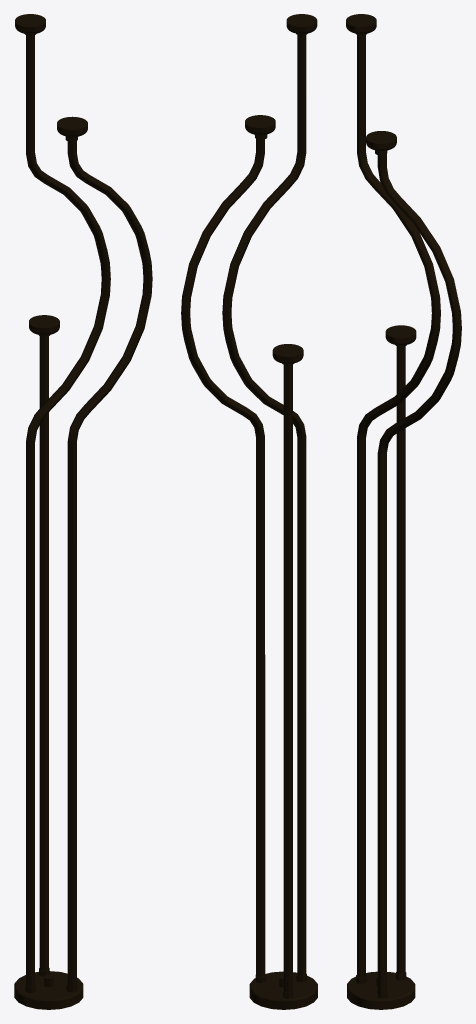
Rendered from CurvyStandBlack.glb.
3 renders of one model, left to right at view 1: azimuth 30°, elevation 25°; view 2: azimuth 210°, elevation 25°; view 3: azimuth 330°, elevation 25°, orthographic.
Parts seen in each view (by area): view 1: Stand; view 2: Stand; view 3: Stand.
Part boxes in pixels (bbox=[...]): Stand: bbox=[14, 14, 152, 1009]; Stand: bbox=[181, 14, 317, 1009]; Stand: bbox=[346, 14, 461, 1009].
Bounding box in the file's own units: 0.0373 × 0.28 × 0.0204.
